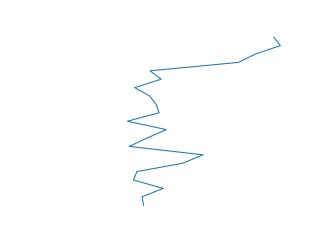crevasseRiverChannelBar: (125, 34, 284, 207)
